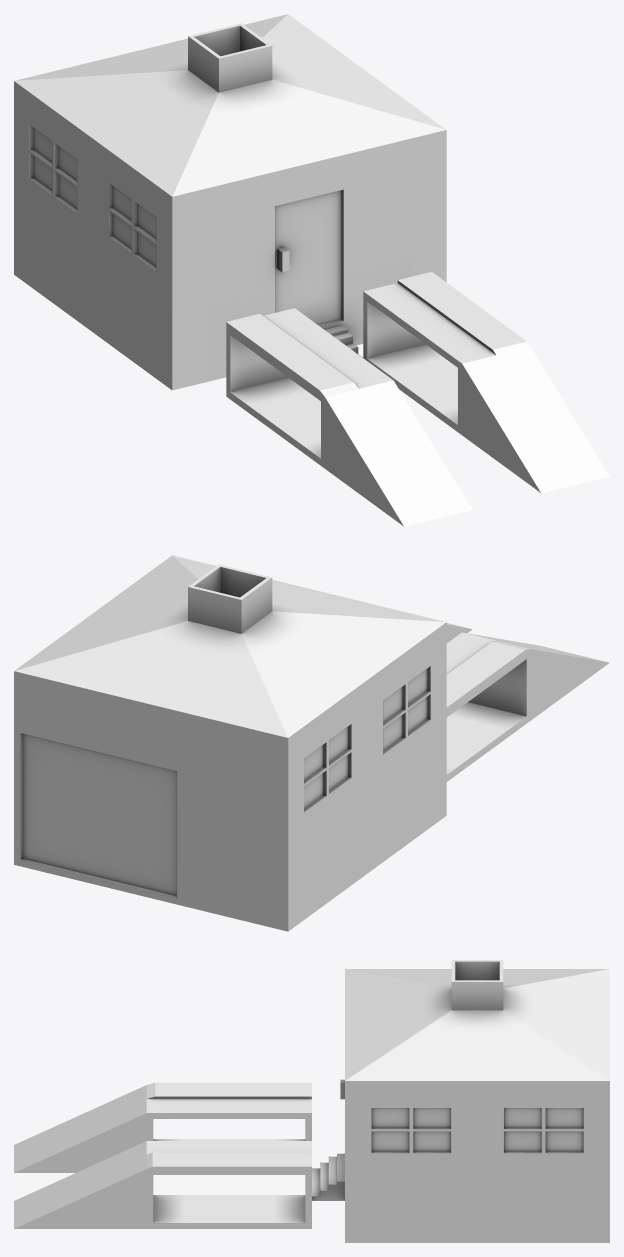
The model's file is TechnicalInspectionPoint.fbx.
3 renders of one model, top to bottom at view 1: azimuth 30°, elevation 25°; view 2: azimuth 150°, elevation 25°; view 3: azimuth 270°, elevation 25°, orthographic. The views are drawn at different scales.
Visible parts, largest first — view 1: Пункт_ТО; view 2: Пункт_ТО; view 3: Пункт_ТО.
Part boxes in pixels (left/top/right/bottom): Пункт_ТО: left=14, top=14, right=609, bottom=526; Пункт_ТО: left=14, top=555, right=609, bottom=931; Пункт_ТО: left=14, top=960, right=609, bottom=1242.
Bounding box in the file's own units: 0.5592 × 0.5031 × 1.26.
